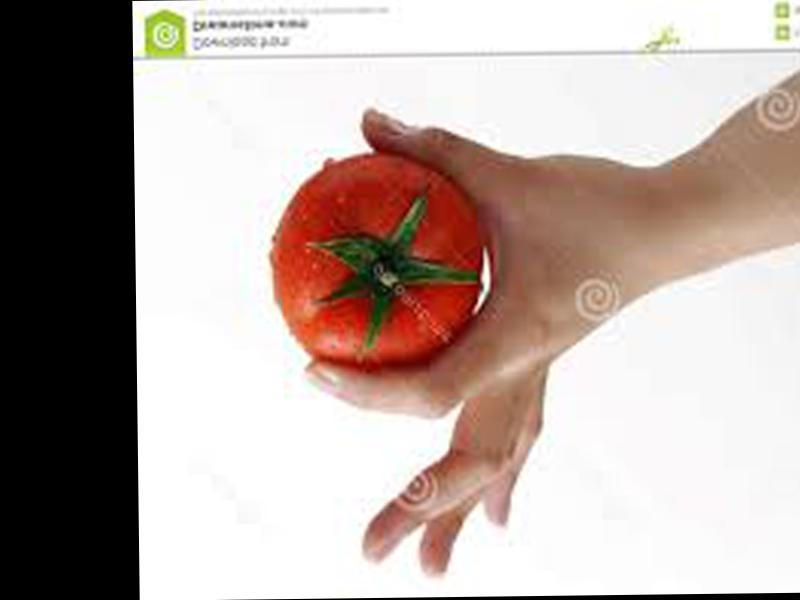Tomato: (269, 152, 485, 373)
